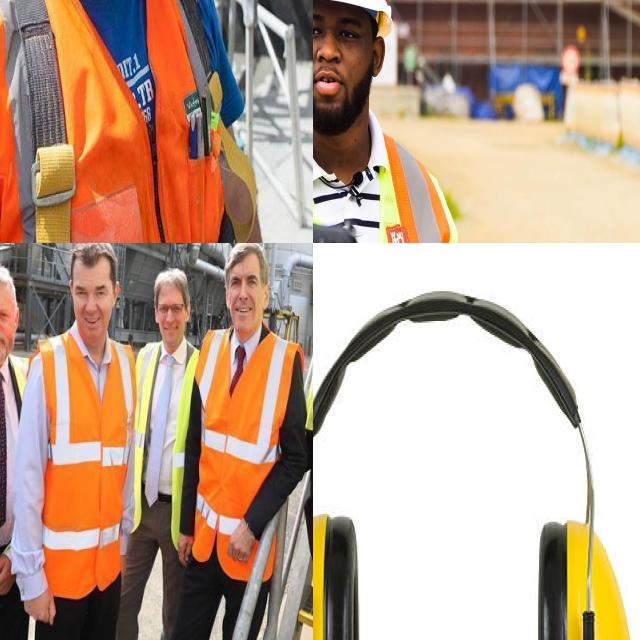Ear-protection: (313, 265, 640, 640)
No_Ear-Protection: (369, 32, 388, 83)
No_Glasses: (313, 6, 366, 55)
face_nomask: (68, 262, 120, 334), (226, 269, 266, 335), (149, 287, 188, 344), (0, 289, 18, 358)
glasses: (154, 299, 185, 320)
hand_noglove: (219, 516, 261, 576), (28, 570, 61, 638), (0, 551, 19, 608), (165, 531, 194, 567)
head_nohelmet: (152, 249, 192, 293), (216, 243, 272, 274), (64, 243, 119, 274), (0, 256, 17, 293)
person: (0, 0, 275, 243), (29, 243, 133, 640), (196, 243, 300, 640), (132, 266, 191, 640), (0, 264, 30, 640)
vest: (0, 0, 242, 243), (196, 323, 296, 579), (38, 329, 130, 592), (133, 340, 192, 540), (0, 347, 26, 595)
